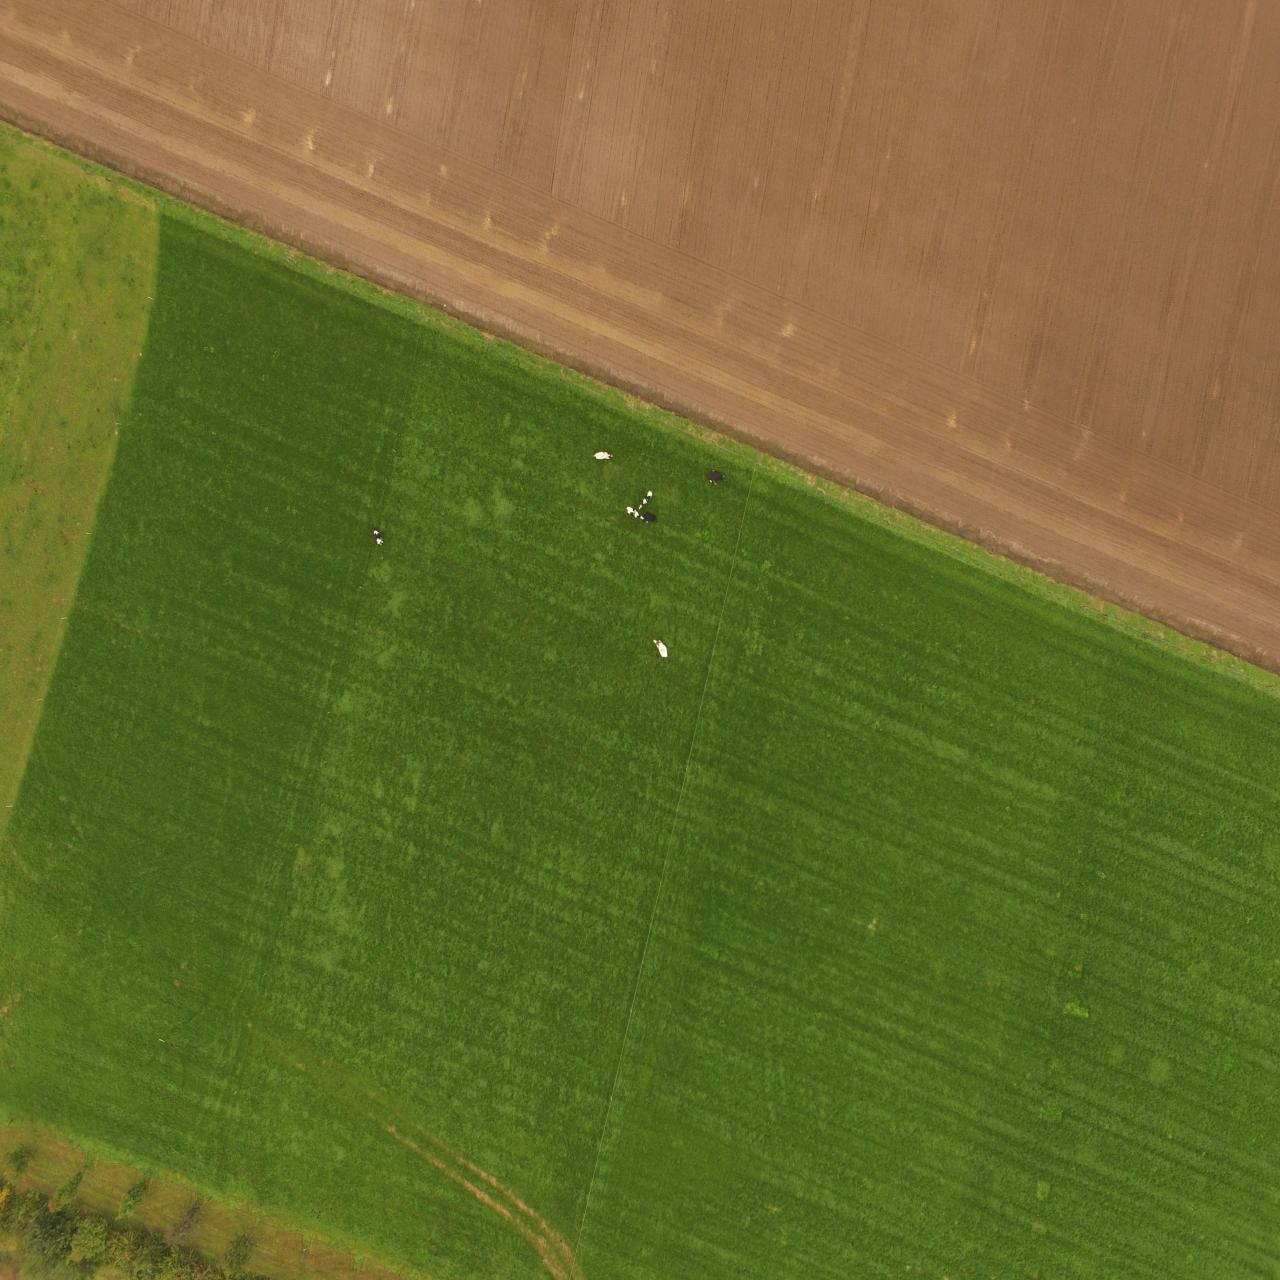cow: (652, 638, 670, 658), (706, 467, 727, 484), (592, 448, 614, 462), (639, 488, 653, 510), (639, 511, 659, 524), (624, 505, 641, 518), (374, 530, 383, 547)
